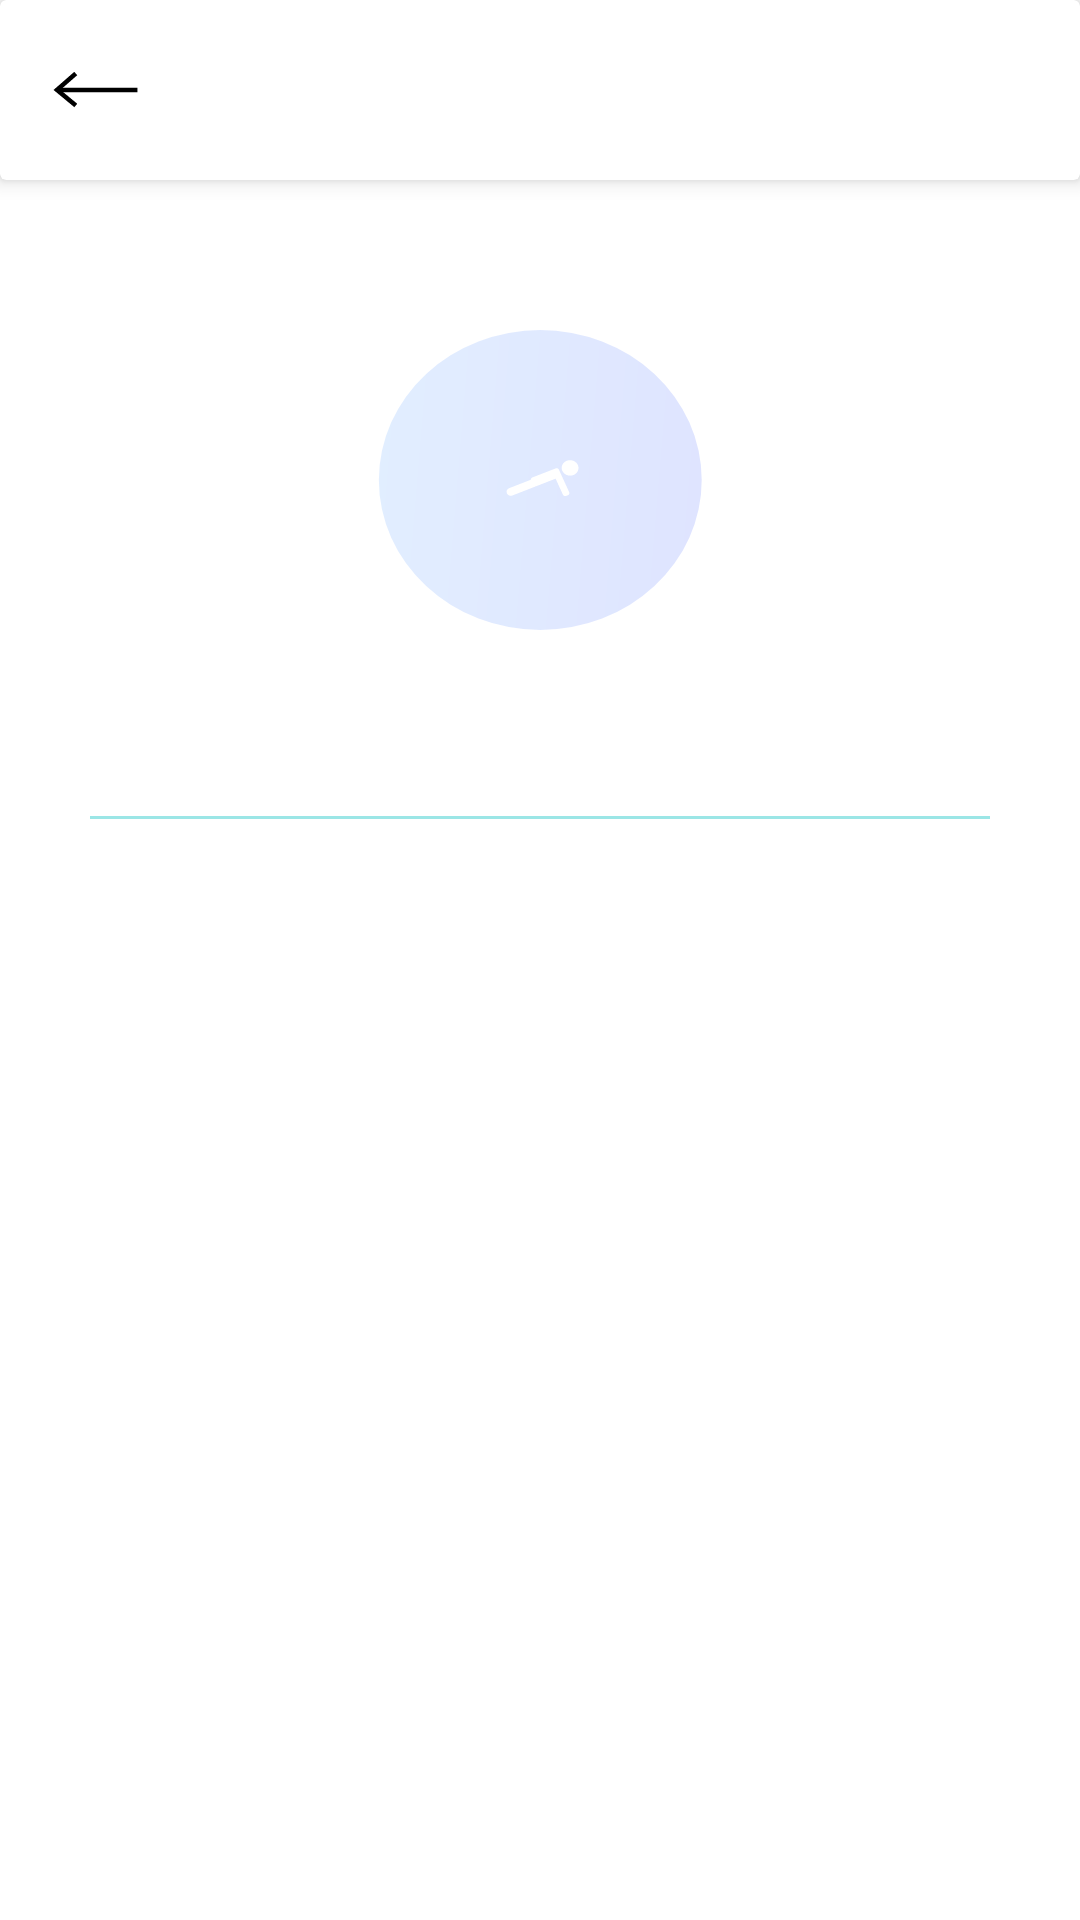

Named icons in this screenshot (1080x1920) and their bounding boxes, Rect(x1, y1, x2, y2):
back: Rect(53, 72, 138, 107)
